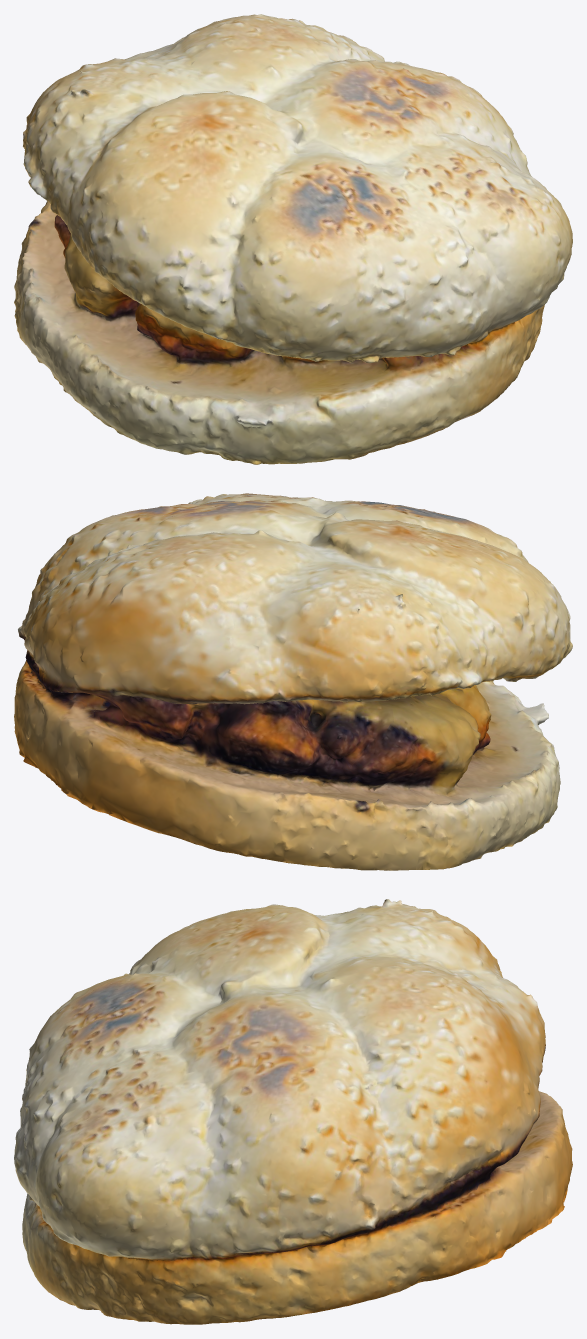
3 renders of one model, top to bottom at view 1: azimuth 30°, elevation 25°; view 2: azimuth 150°, elevation 25°; view 3: azimuth 270°, elevation 25°, orthographic. The views are drawn at different scales.
Parts seen in each view (by area): view 1: 3DModel; view 2: 3DModel; view 3: 3DModel.
Boxes of the visible parts, x1,y1,x2,y2 form: 3DModel: (14, 14, 572, 464); 3DModel: (14, 493, 572, 870); 3DModel: (14, 899, 572, 1324).
Bounding box in the file's own units: 0.2548 × 0.1528 × 0.2602.
Materials: 1 (1 with a texture image).
